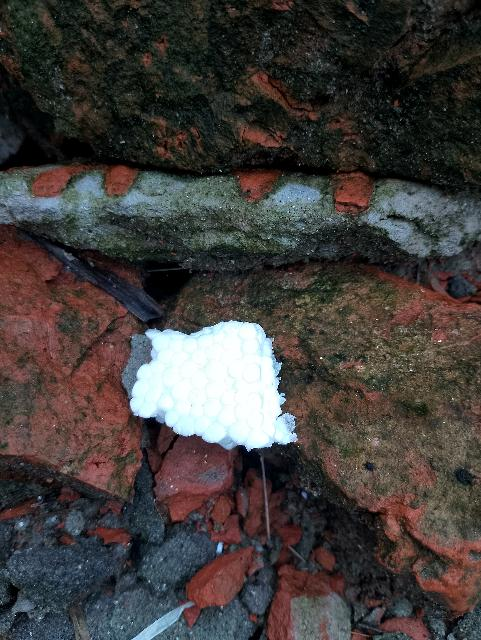cocksheet: (118, 304, 280, 457)
